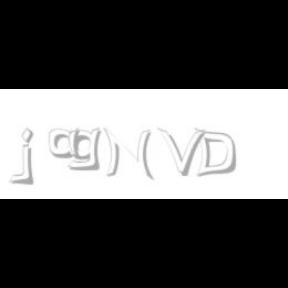D: (194, 128, 236, 178)
N: (102, 128, 152, 180)
V: (158, 128, 206, 176)
a: (50, 128, 86, 160)
g: (68, 128, 104, 171)
j: (18, 128, 48, 186)
